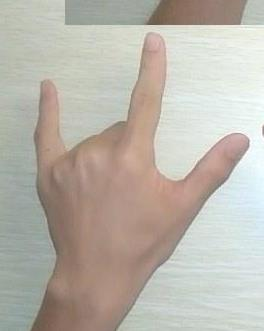back: (21, 26, 257, 275)
